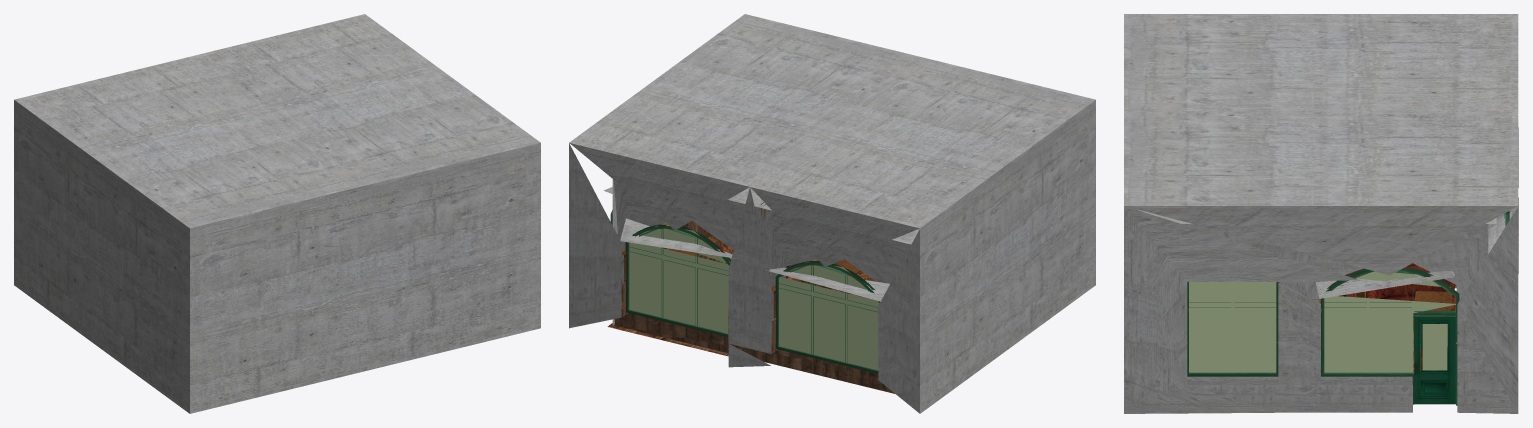
The model's file is int_pub.fbx.
The picture shows the model from 3 angles, left to right: view 1: azimuth 30°, elevation 25°; view 2: azimuth 150°, elevation 25°; view 3: azimuth 270°, elevation 25°; orthographic projection. The views are drawn at different scales.
Visible parts, largest first — view 1: int_pub; view 2: int_pub; view 3: int_pub.
Boxes of the visible parts, x1,y1,x2,y2 form: int_pub: (14, 14, 540, 413); int_pub: (569, 14, 1095, 413); int_pub: (1124, 14, 1518, 413).
Size of the model in its own units: 9.32 by 4.75 by 8.09.
2 materials, 2 textured.
